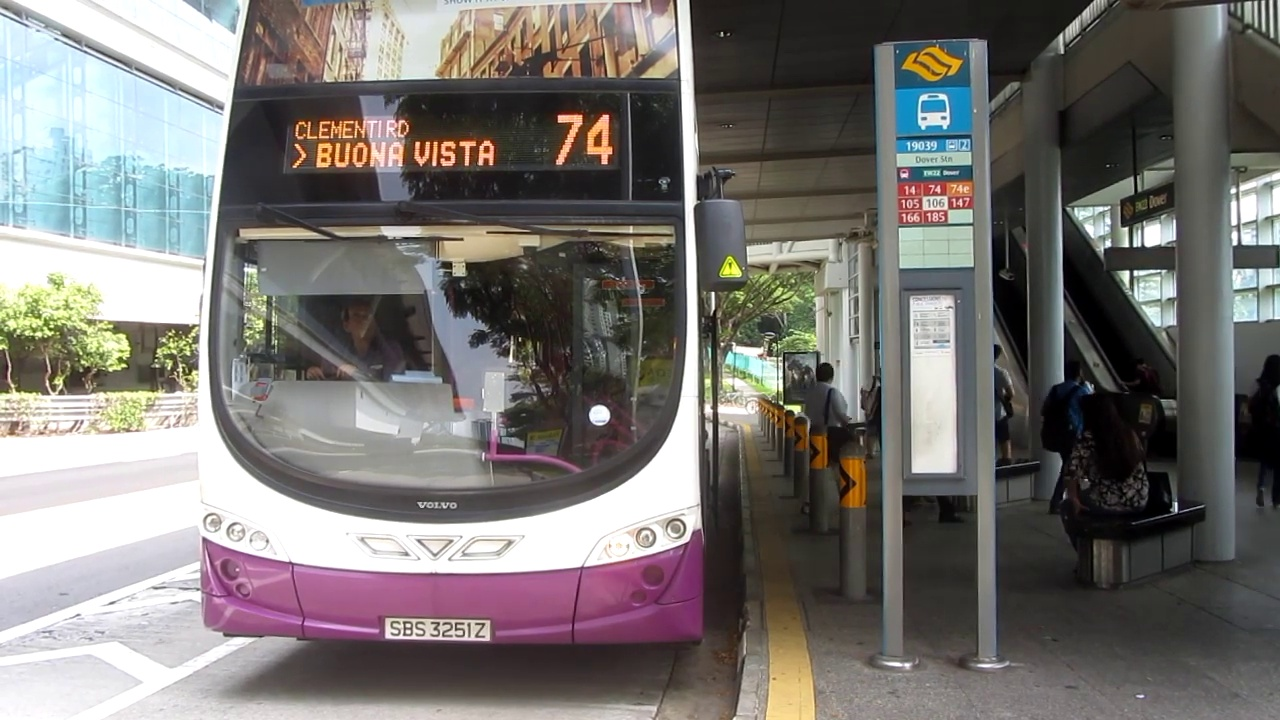bus panel: (280, 109, 624, 178)
